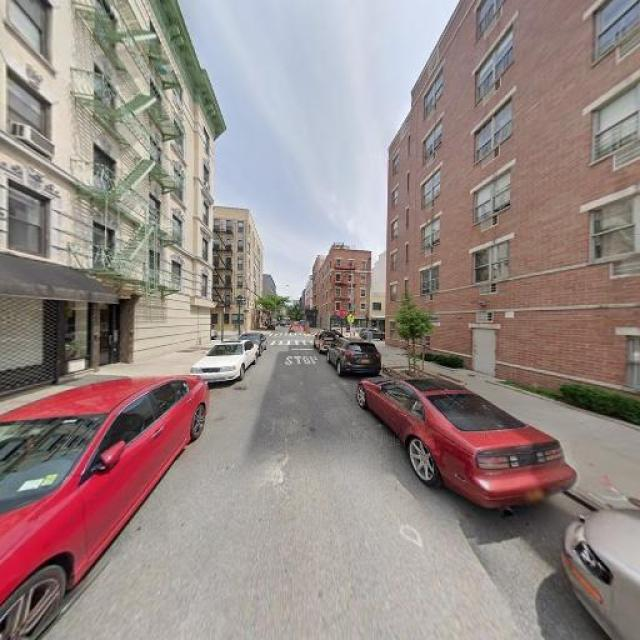Building: (388, 1, 640, 429), (1, 1, 210, 390)
